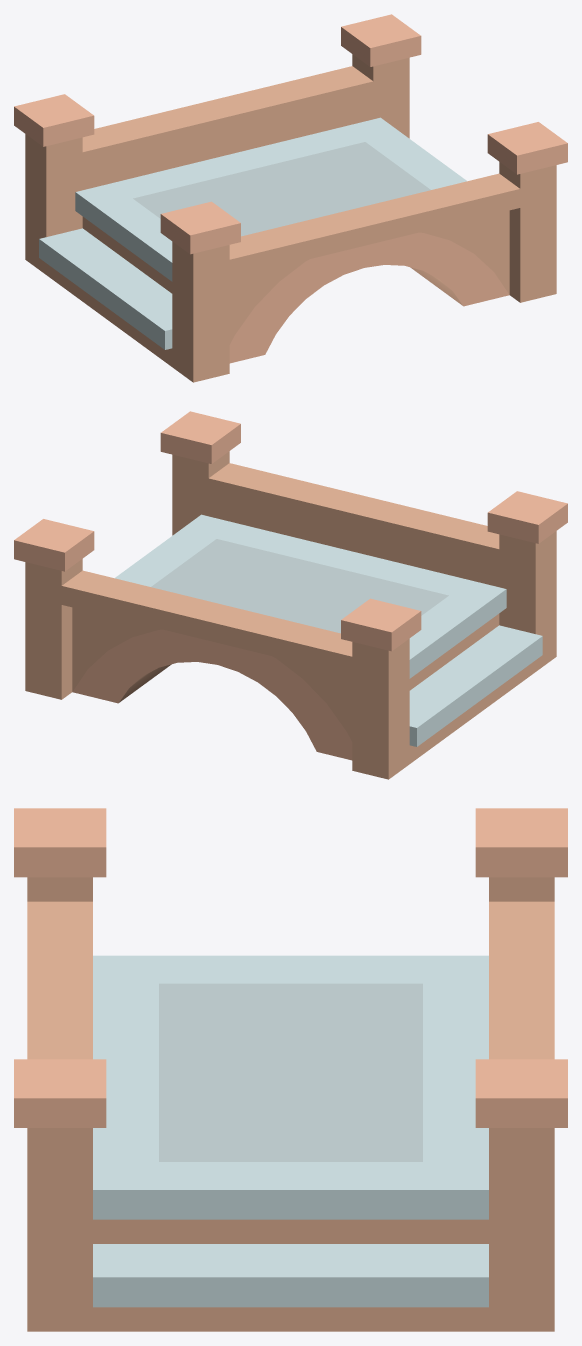
The model's file is kenney-nature-bridge_woodRoundNarrow.glb.
3 views of the same model, one above another, from view 1: azimuth 30°, elevation 25°; view 2: azimuth 150°, elevation 25°; view 3: azimuth 270°, elevation 25° (orthographic). The views are drawn at different scales.
Parts seen in each view (by area): view 1: bridge_woodRoundNarrow; view 2: bridge_woodRoundNarrow; view 3: bridge_woodRoundNarrow.
Part boxes in pixels (box(x1,y1,x2,y2)): bridge_woodRoundNarrow: box(14, 14, 567, 382); bridge_woodRoundNarrow: box(14, 411, 567, 779); bridge_woodRoundNarrow: box(14, 808, 567, 1331).
Size of the model in its own units: 1.04 by 0.3999 by 0.84.
